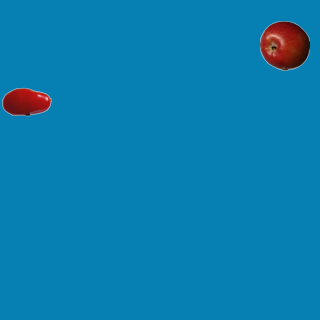Apple Braeburn: (259, 20, 309, 70)
Tomato 2: (1, 76, 51, 126)
